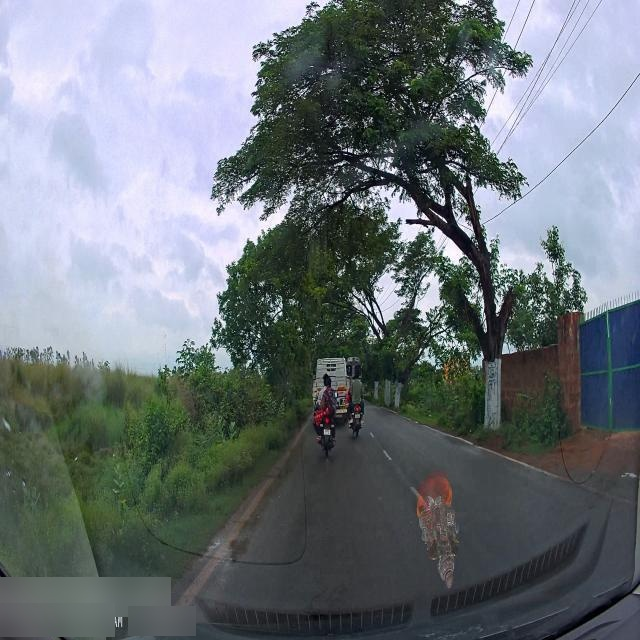pothole: (227, 539, 251, 558)
